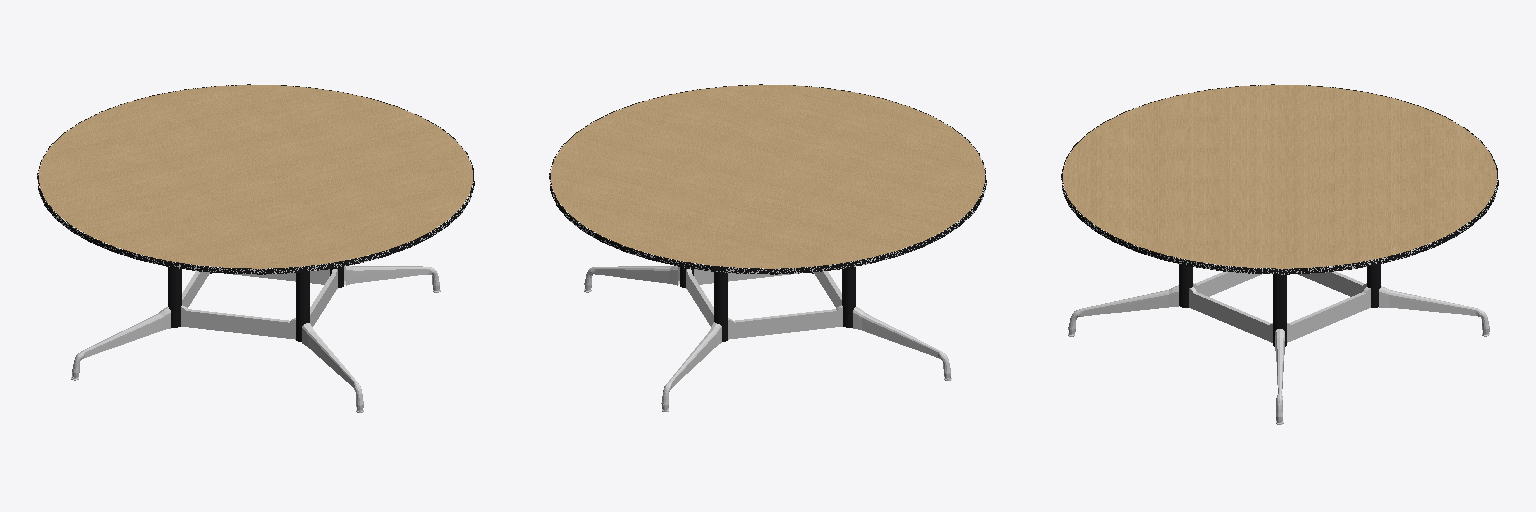
3 views of the same model, side by side, from view 1: azimuth 30°, elevation 25°; view 2: azimuth 150°, elevation 25°; view 3: azimuth 270°, elevation 25° (orthographic).
Parts seen in each view (by area): view 1: mesh2_mesh2-geometry, mesh7_mesh7-geometry, mesh10_mesh10-geometry, mesh22_mesh22-geometry, mesh23_mesh23-geometry, mesh21_mesh21-geometry, mesh6_mesh6-geometry, mesh4_mesh4-geometry, mesh11_mesh11-geometry; view 2: mesh2_mesh2-geometry, mesh7_mesh7-geometry, mesh8_mesh8-geometry, mesh22_mesh22-geometry, mesh23_mesh23-geometry, mesh20_mesh20-geometry, mesh3_mesh3-geometry, mesh4_mesh4-geometry, mesh9_mesh9-geometry; view 3: mesh2_mesh2-geometry, mesh7_mesh7-geometry, mesh11_mesh11-geometry, mesh9_mesh9-geometry, mesh20_mesh20-geometry, mesh21_mesh21-geometry, mesh5_mesh5-geometry, mesh8_mesh8-geometry, mesh10_mesh10-geometry, mesh23_mesh23-geometry.
Part boxes in pixels (x1,y1,x2,y2): mesh2_mesh2-geometry: (39,85,472,268); mesh7_mesh7-geometry: (37,84,474,274); mesh10_mesh10-geometry: (181,305,295,339); mesh22_mesh22-geometry: (72,307,170,377); mesh23_mesh23-geometry: (344,266,439,289); mesh21_mesh21-geometry: (302,323,363,409); mesh6_mesh6-geometry: (296,272,309,341); mesh4_mesh4-geometry: (168,267,181,327); mesh11_mesh11-geometry: (310,269,337,326); mesh2_mesh2-geometry: (551,85,984,268); mesh7_mesh7-geometry: (549,84,986,274); mesh8_mesh8-geometry: (728,305,842,339); mesh22_mesh22-geometry: (853,307,950,377); mesh23_mesh23-geometry: (584,266,679,289); mesh20_mesh20-geometry: (661,322,721,409); mesh3_mesh3-geometry: (714,272,727,341); mesh4_mesh4-geometry: (842,267,855,327); mesh9_mesh9-geometry: (686,268,713,326); mesh2_mesh2-geometry: (1063,85,1496,268); mesh7_mesh7-geometry: (1061,84,1498,274); mesh11_mesh11-geometry: (1189,287,1272,342); mesh9_mesh9-geometry: (1287,287,1370,342); mesh20_mesh20-geometry: (1379,286,1489,333); mesh21_mesh21-geometry: (1068,285,1178,333); mesh5_mesh5-geometry: (1273,274,1286,346); mesh8_mesh8-geometry: (1298,271,1366,296); mesh10_mesh10-geometry: (1193,272,1261,296); mesh23_mesh23-geometry: (1275,329,1284,421).
Bounding box in the file's own units: 0.6805 × 0.272 × 0.6805.
5 materials, 1 textured.